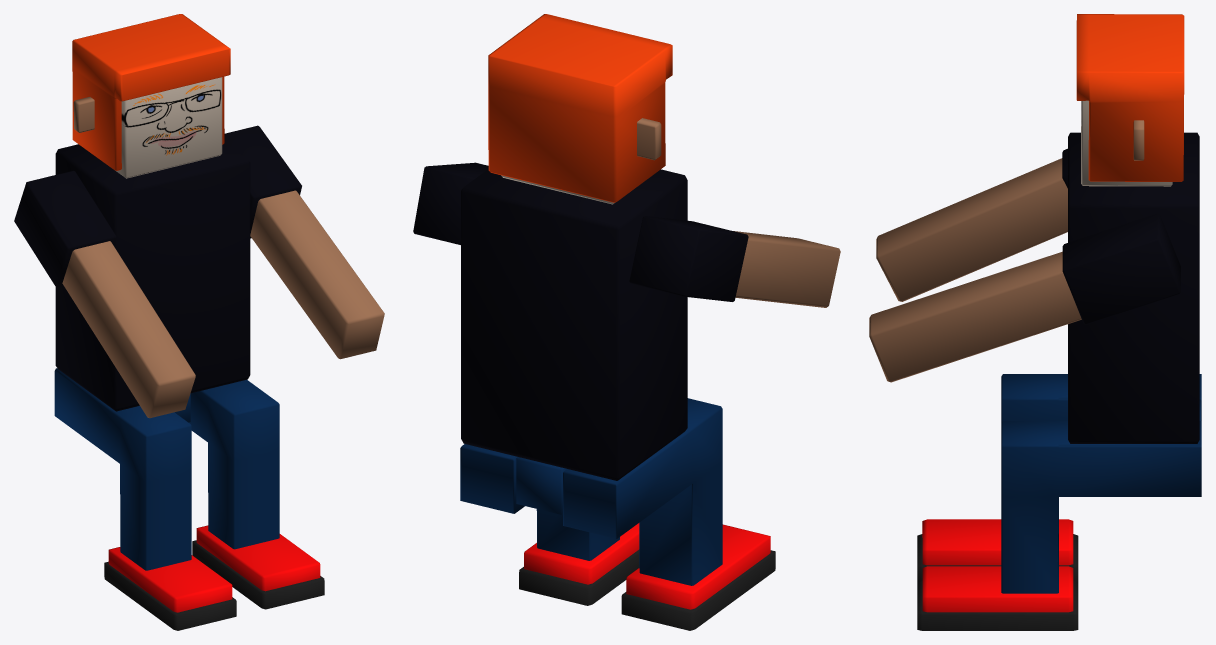
File: SittingIdle.FBX
3 renders of one model, left to right at view 1: azimuth 30°, elevation 25°; view 2: azimuth 150°, elevation 25°; view 3: azimuth 270°, elevation 25°, orthographic. The views are drawn at different scales.
Parts seen in each view (by area): view 1: Ass, Body, Head, RArm, LArm; view 2: Body, Ass, Head, RArm, LArm; view 3: Ass, Body, LArm, Head, RArm.
Part boxes in pixels (left/top/right/bottom): Ass: left=54, top=368, right=324, bottom=630; Body: left=55, top=143, right=250, bottom=411; Head: left=72, top=14, right=230, bottom=178; RArm: left=14, top=170, right=195, bottom=418; LArm: left=224, top=125, right=384, bottom=359; Body: left=461, top=169, right=687, bottom=480; Ass: left=460, top=398, right=775, bottom=630; Head: left=488, top=14, right=672, bottom=204; RArm: left=629, top=216, right=840, bottom=307; LArm: left=413, top=162, right=488, bottom=244; Ass: left=917, top=374, right=1201, bottom=630; Body: left=1068, top=132, right=1199, bottom=443; LArm: left=869, top=213, right=1180, bottom=382; Head: left=1076, top=14, right=1184, bottom=186; RArm: left=876, top=148, right=1067, bottom=301.
Bounding box in the file's own units: 133 × 270 × 149.
